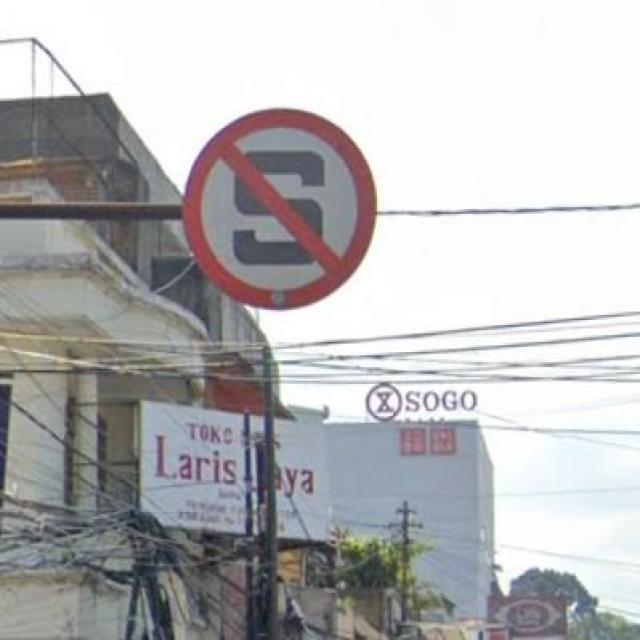traffic sign: (183, 104, 377, 310)
